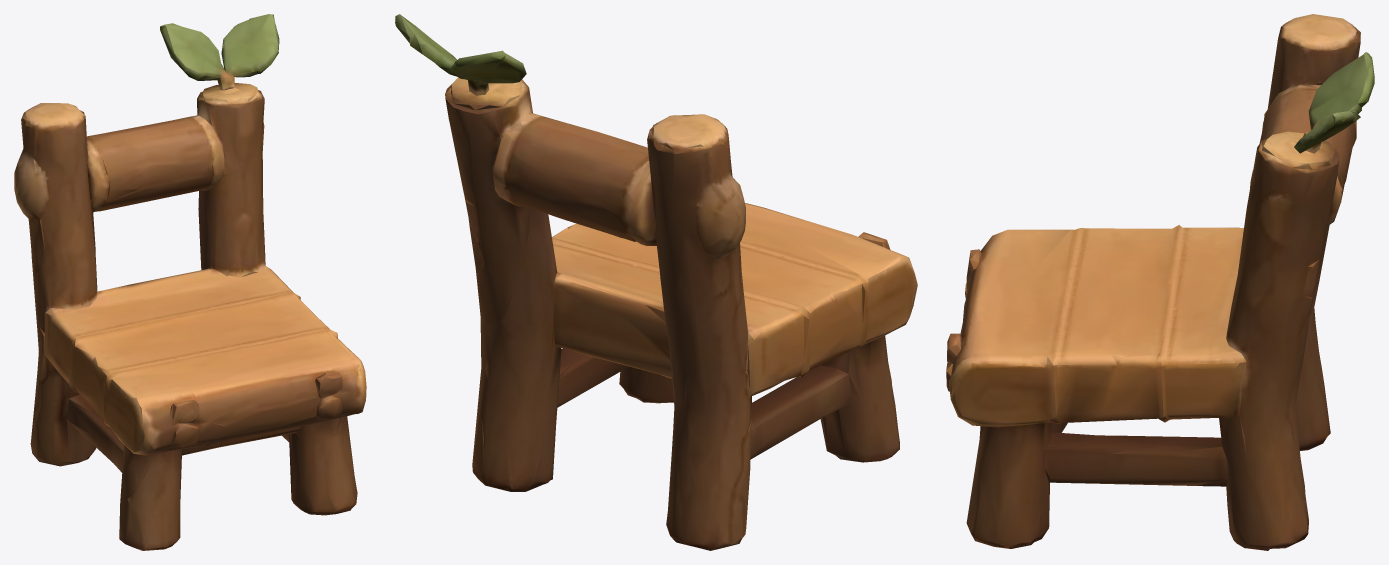
File: chair11.glb
The picture shows the model from 3 angles, left to right: view 1: azimuth 30°, elevation 25°; view 2: azimuth 150°, elevation 25°; view 3: azimuth 270°, elevation 25°; orthographic projection. The views are drawn at different scales.
Bounding box in the file's own units: 0.1883 × 0.2489 × 0.2044.
Materials: 1 (1 with a texture image).
